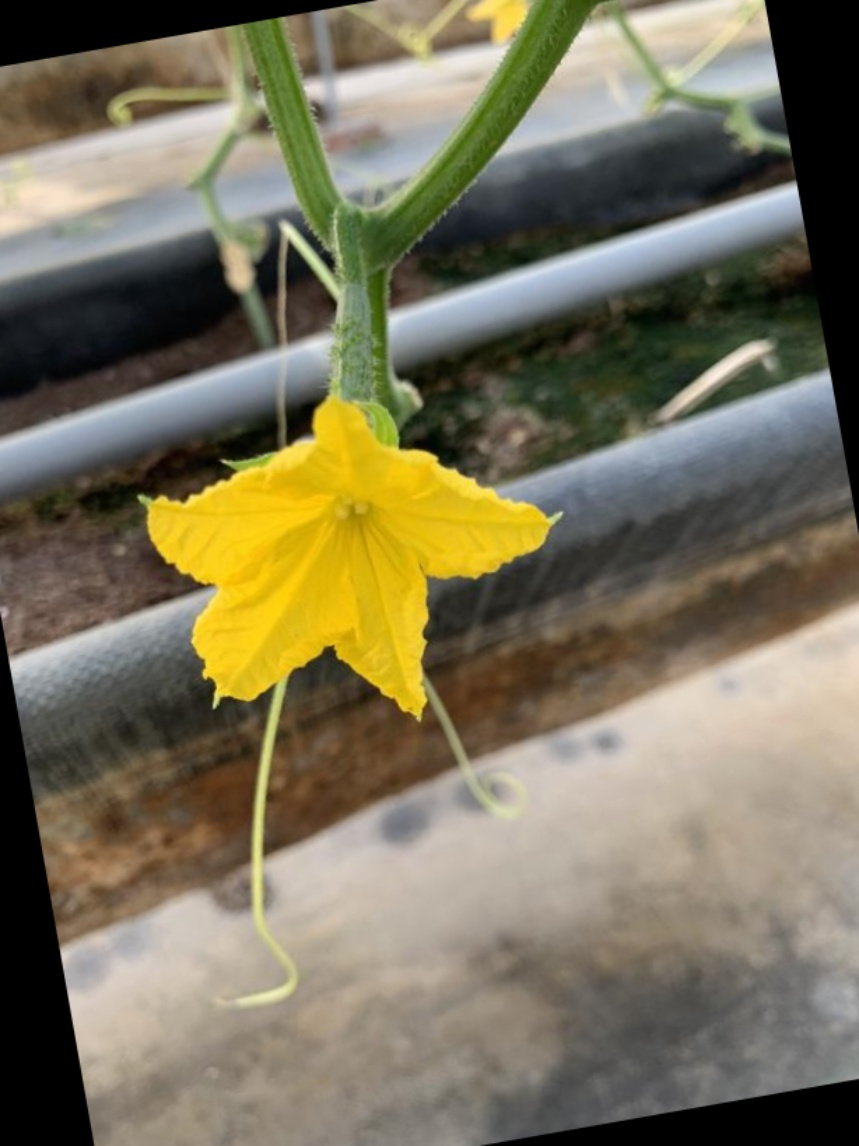flowering: (121, 253, 554, 734)
mature: (119, 254, 558, 734)
